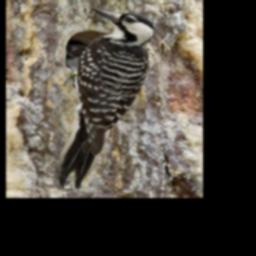Woodpecker: (55, 7, 156, 190)
